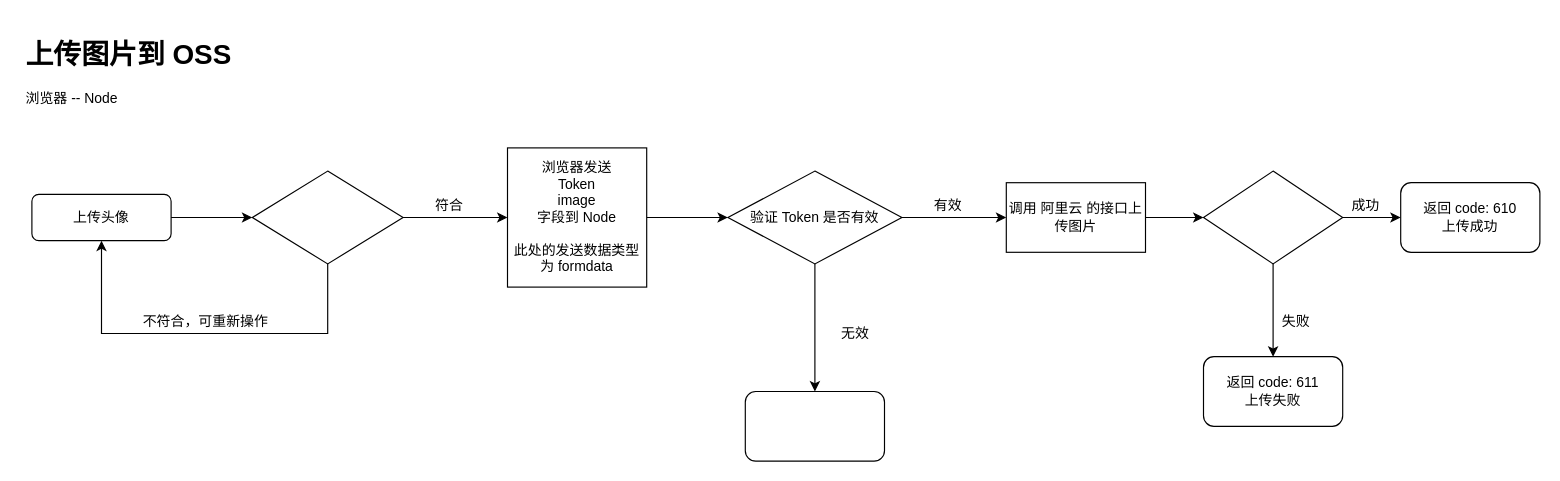
Some shapes in this 1560 by 481 pixel diagram are drawn without their labels. Each missing label, with the centre of its shape:
"格式是否 符合要求" goes at pixel 327 217.
"返回 code: 241 验证失败" goes at pixel 814 425.
"返回图片地址" goes at pixel 1272 217.
